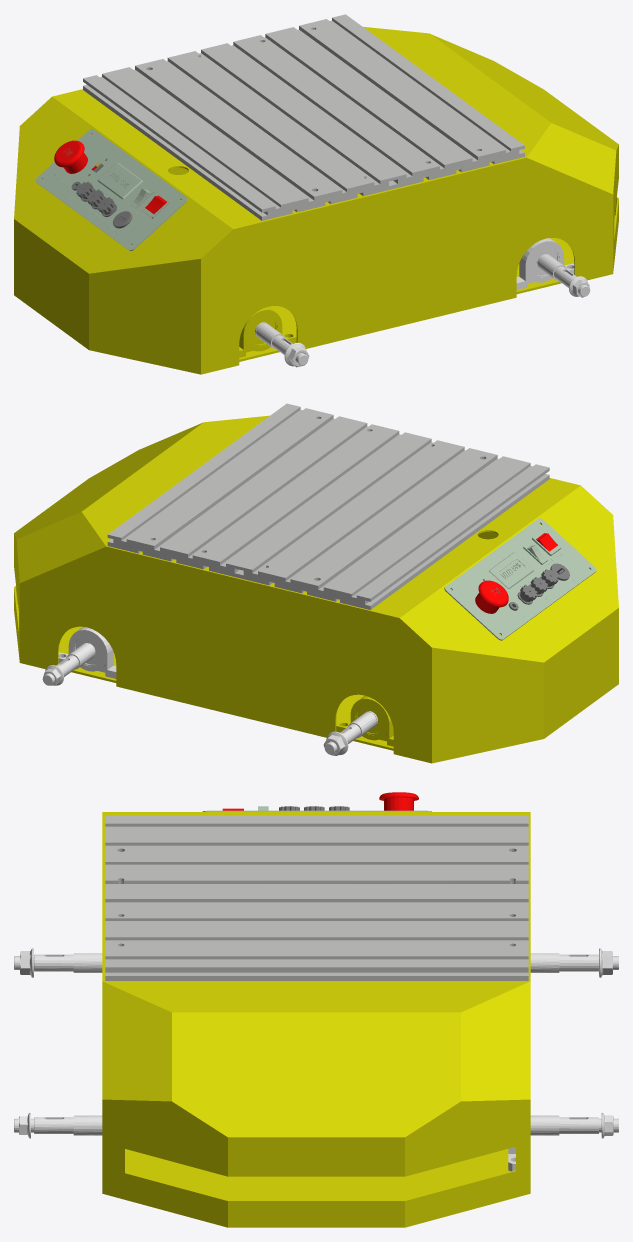
The model's file is body_color.dae.
3 views of the same model, one above another, from view 1: azimuth 30°, elevation 25°; view 2: azimuth 150°, elevation 25°; view 3: azimuth 270°, elevation 25° (orthographic). The views are drawn at different scales.
Visible parts, largest first — view 1: top; view 2: top; view 3: top.
Boxes of the visible parts, <box> form: top: <box>14,14,618,374</box>; top: <box>14,403,618,763</box>; top: <box>14,792,618,1227</box>.
Bounding box in the file's own units: 0.726 × 0.607 × 0.195.
